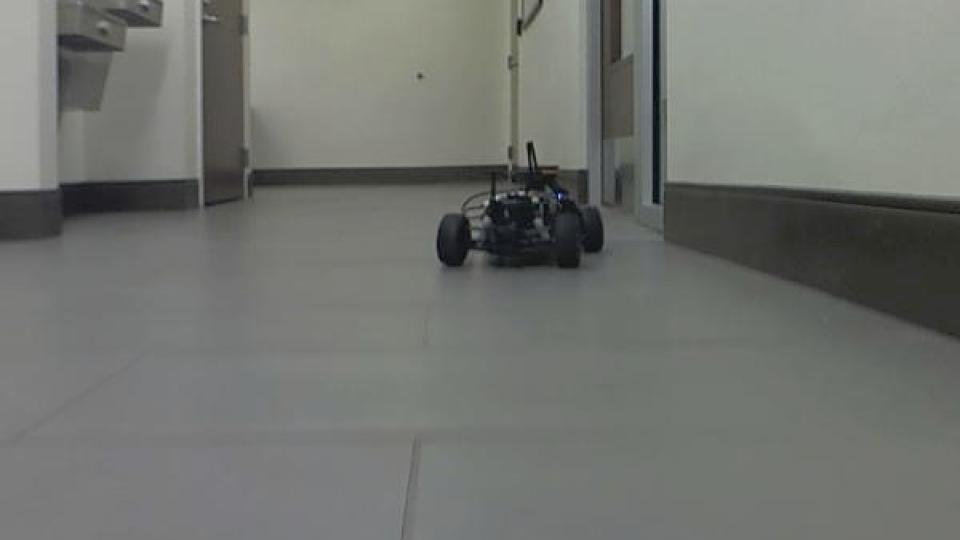car: (434, 140, 610, 273)
